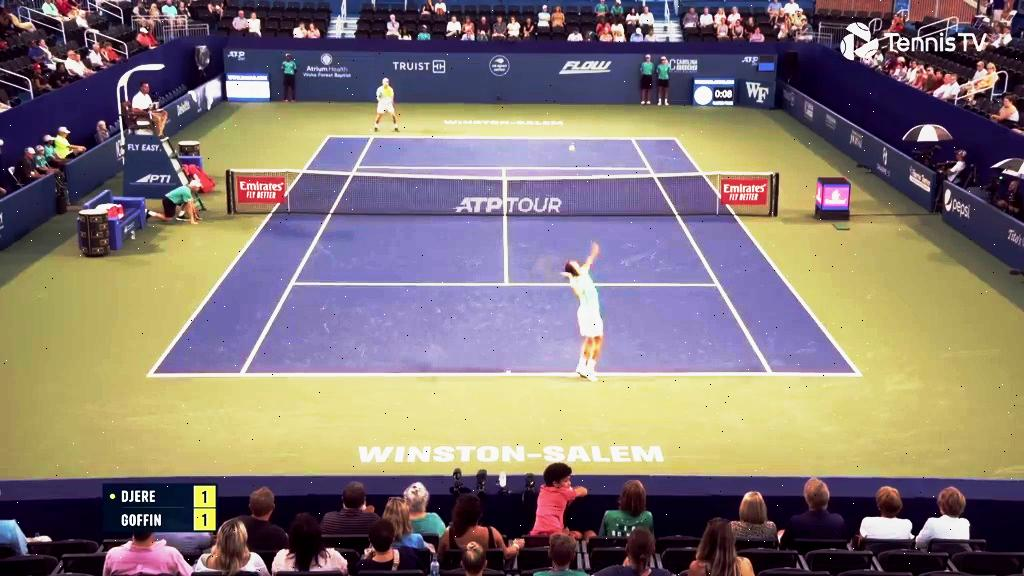tennis-court: (147, 134, 863, 377)
